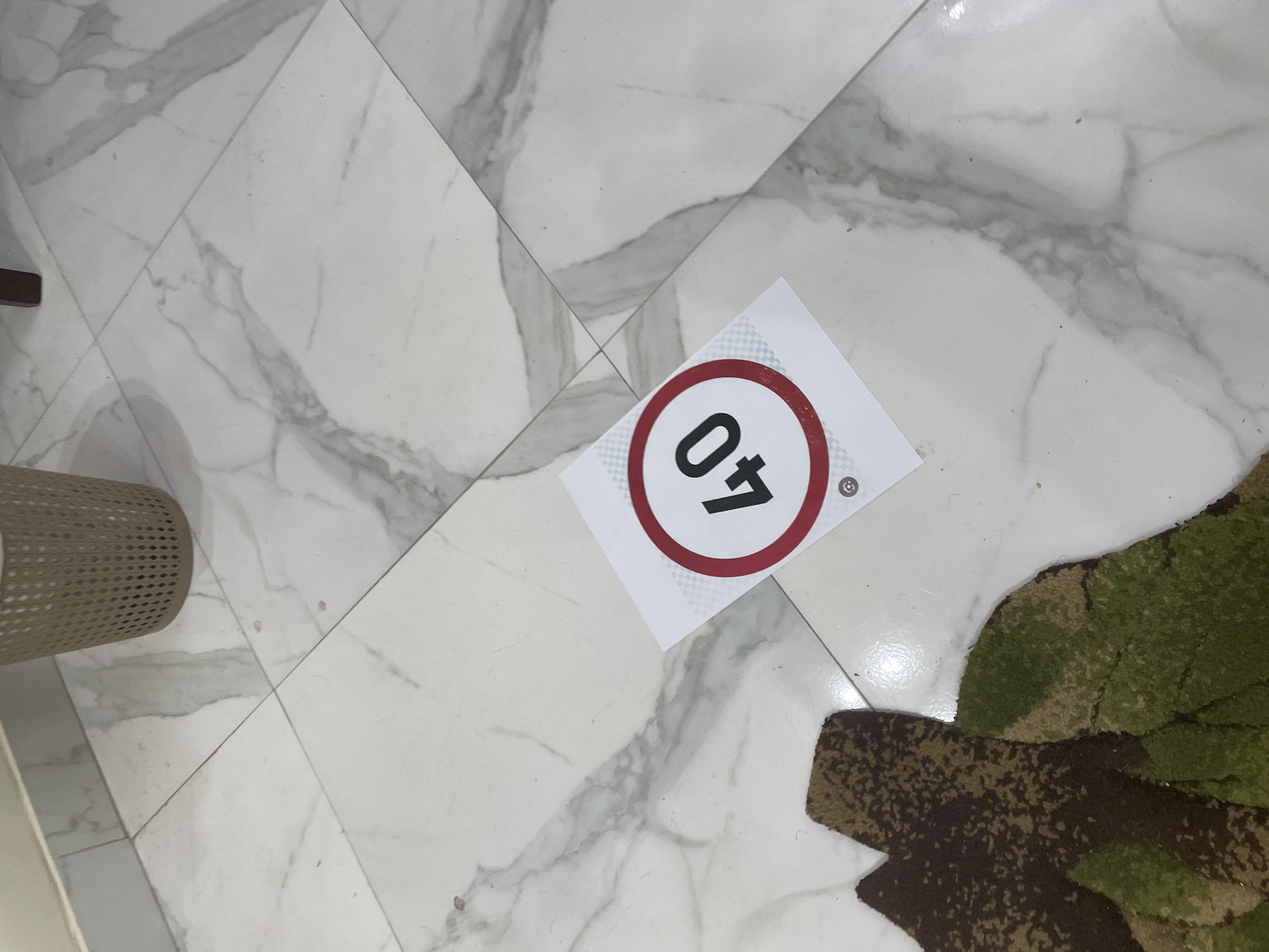40-Speed: (474, 469, 798, 622)
